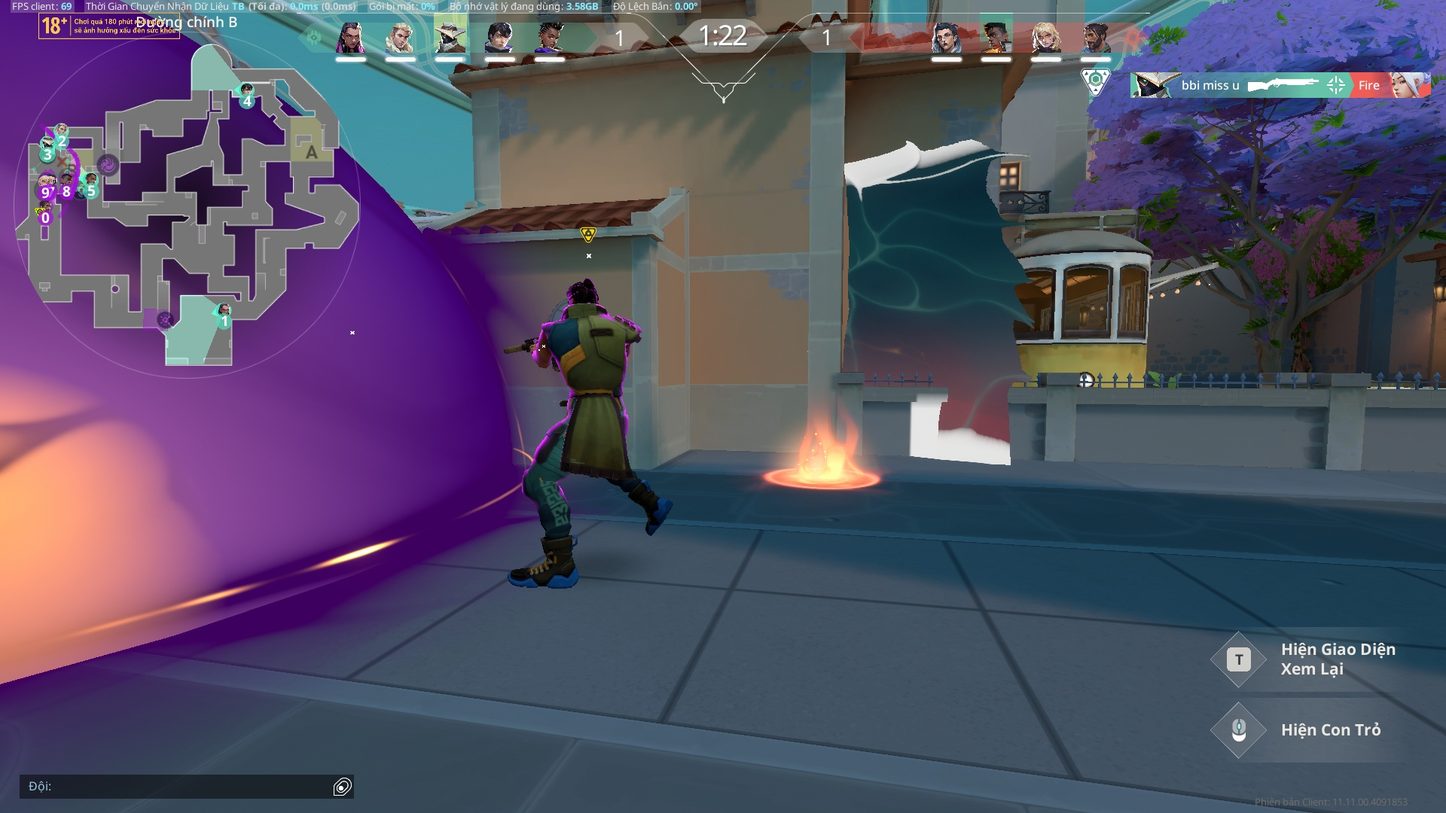body: (553, 306, 634, 399)
head: (563, 276, 603, 324)
